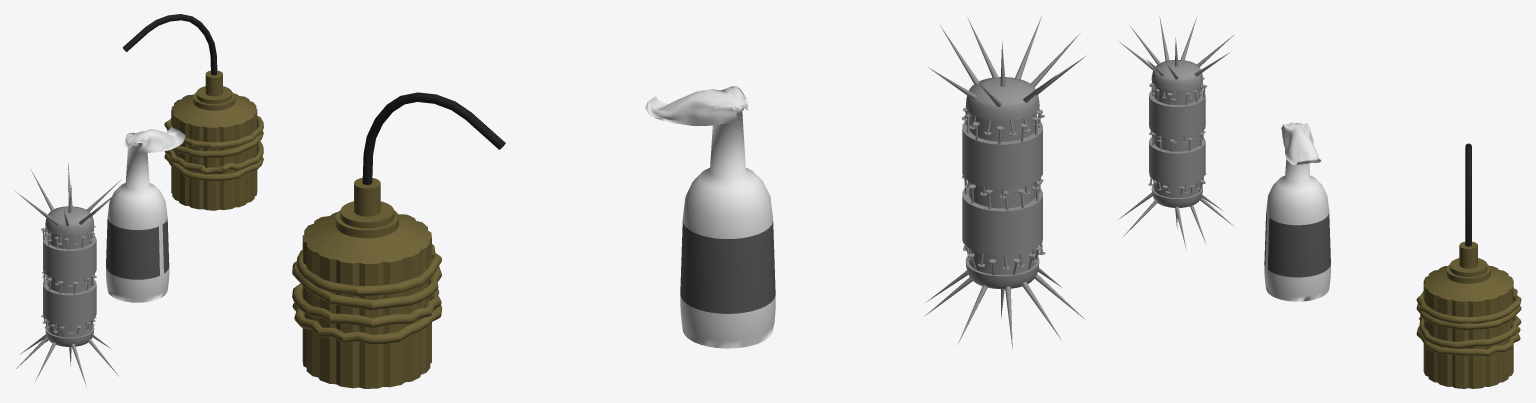
Rendered from MorePickUps.fbx.
3 renders of one model, left to right at view 1: azimuth 30°, elevation 25°; view 2: azimuth 150°, elevation 25°; view 3: azimuth 270°, elevation 25°, orthographic. The views are drawn at different scales.
Visible parts, largest first — view 1: Cylinder.002, Cylinder.001, Cylinder.003; view 2: Cylinder.002, Cylinder.001, Cylinder.003; view 3: Cylinder.002, Cylinder.001, Cylinder.003.
Part boxes in pixels (x1,y1,x2,y2): Cylinder.002: (122, 14, 263, 210); Cylinder.001: (106, 127, 185, 302); Cylinder.003: (15, 162, 122, 386); Cylinder.002: (292, 92, 505, 388); Cylinder.001: (645, 86, 775, 348); Cylinder.003: (924, 16, 1086, 349); Cylinder.002: (1416, 143, 1521, 388); Cylinder.001: (1264, 122, 1330, 301); Cylinder.003: (1118, 15, 1234, 248).
Bounding box in the file's own units: 945 × 466 × 843.
